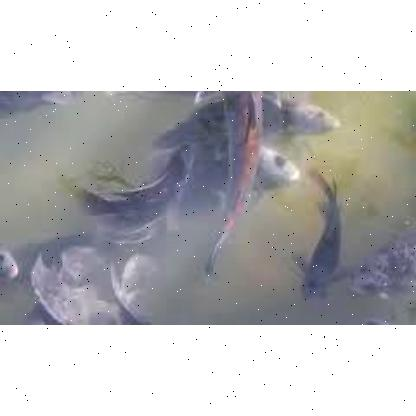gurame: (260, 146, 306, 200), (273, 98, 339, 131)
